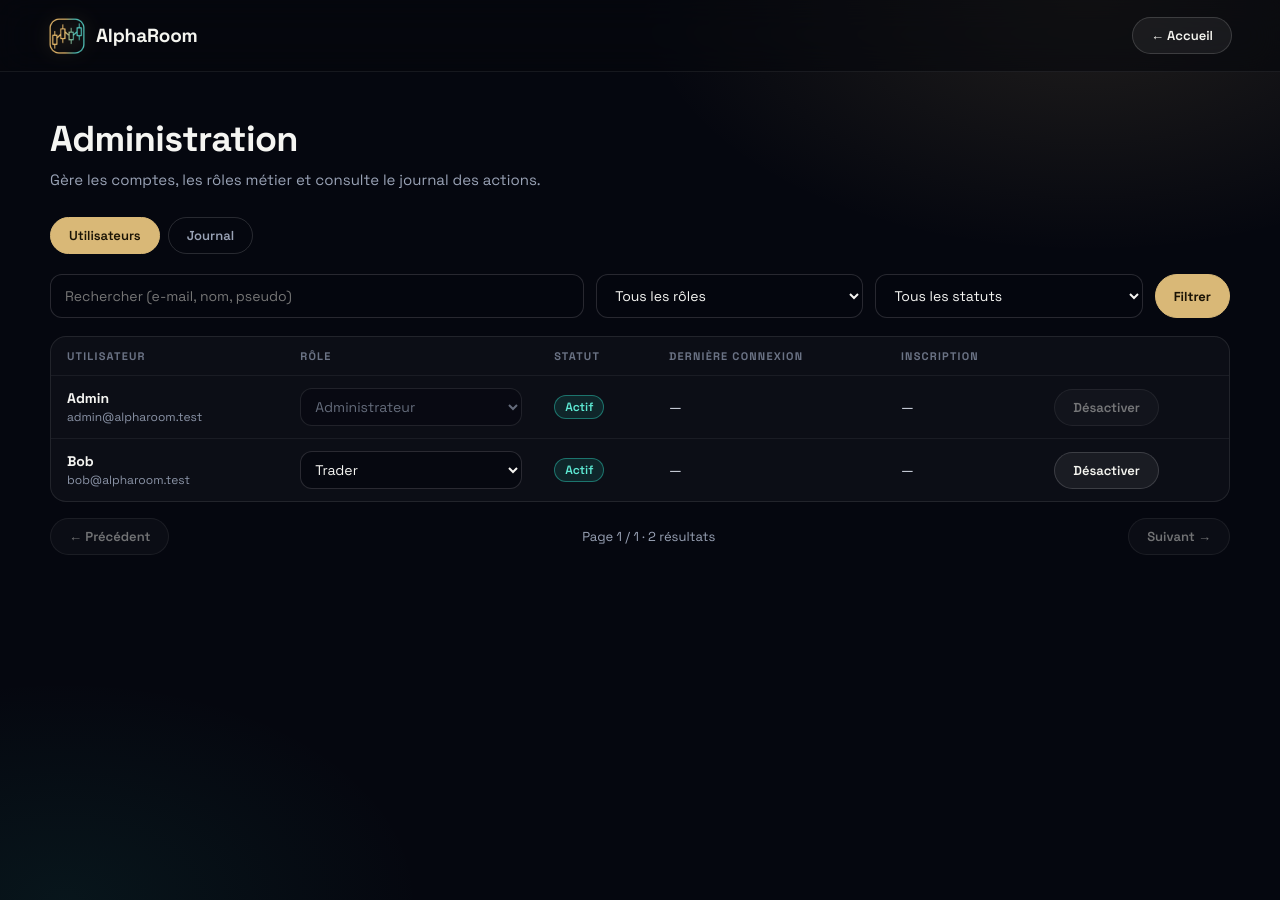
Test: AdminUsersPage › affiche l'erreur du backend
The width and height of the screenshot is (1280, 900).
Check: the text "bob@alpharoom.test" is shown, box [67, 472, 190, 488]
Select "Administrateur" in the dropdown named "Rôle de bob@alpharoom.test": [411, 470] box [300, 451, 522, 489]
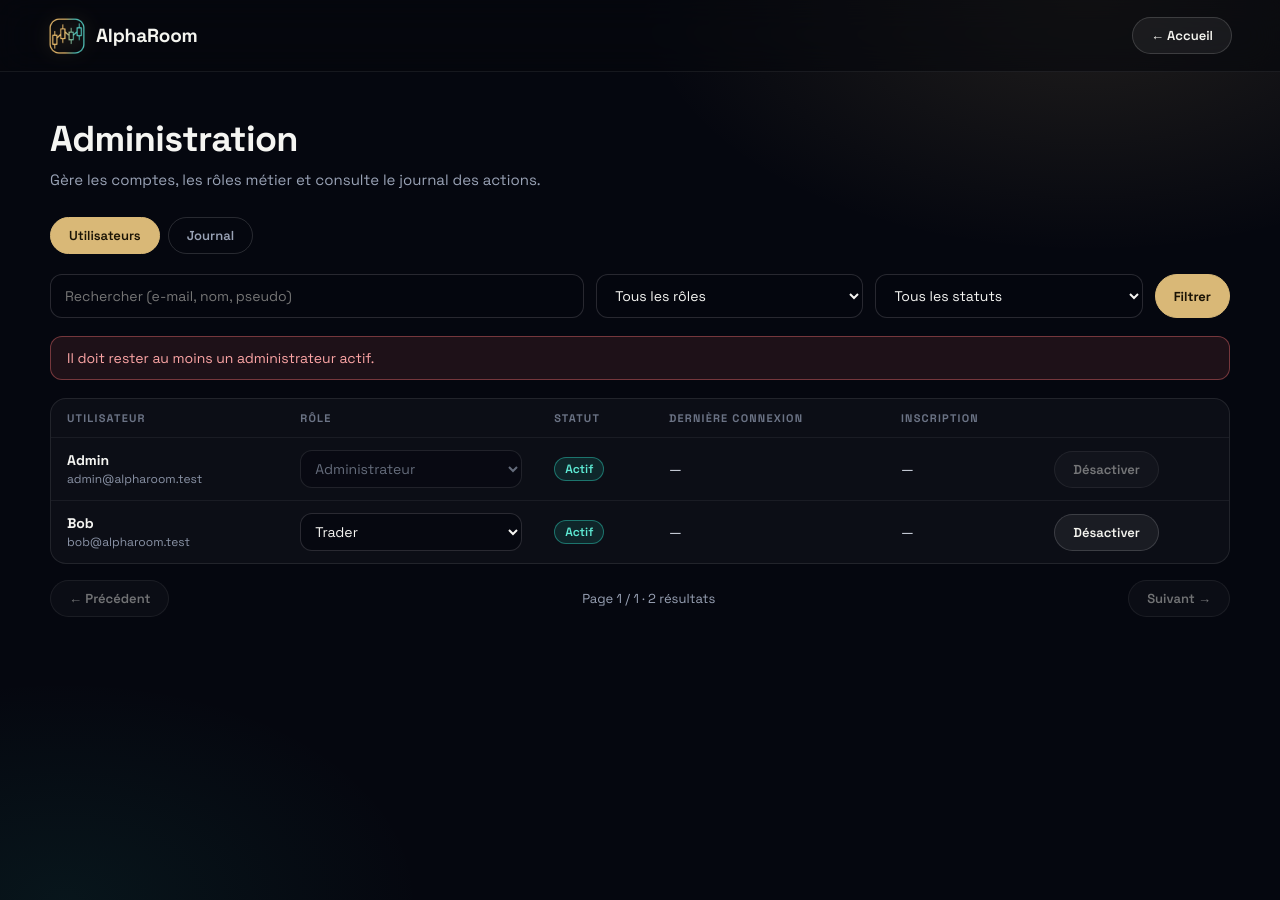
Check: the text "Il doit rester au moins un administrateur actif." is shown, box [50, 336, 1230, 380]
